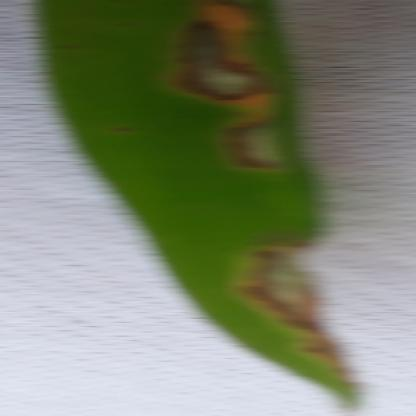Rice blast: (146, 1, 290, 190), (231, 233, 362, 395)
